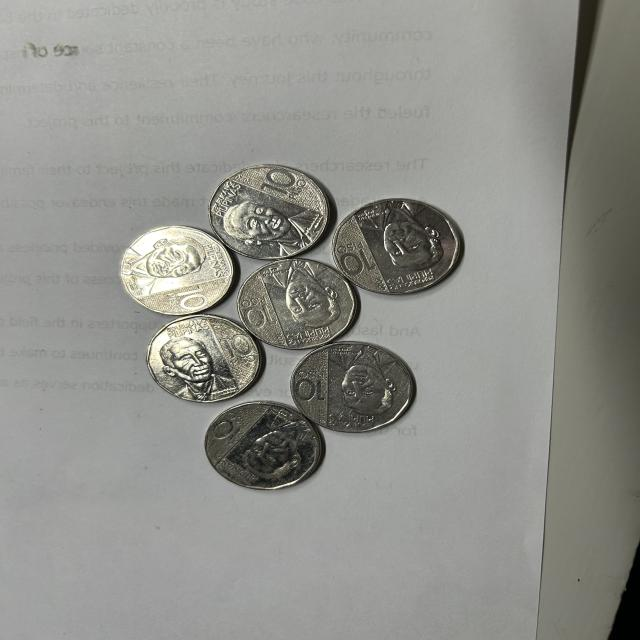10_New_Front: (333, 234, 388, 283), (254, 165, 311, 207), (287, 361, 328, 404), (168, 286, 218, 321), (239, 293, 277, 333), (206, 413, 253, 444), (215, 332, 255, 368)
